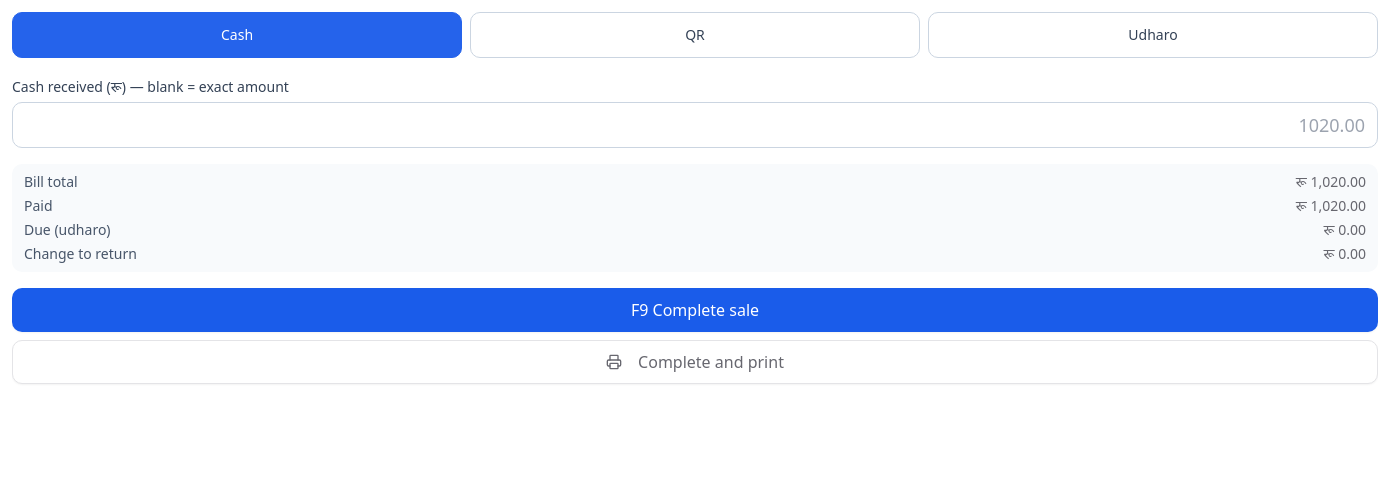
PaymentPanel › asks who owes the rest when the payment is short
Type "500" into the field labelled "Cash received (रू) — blank = exact amount" at (695, 125), box [12,102,1378,148]
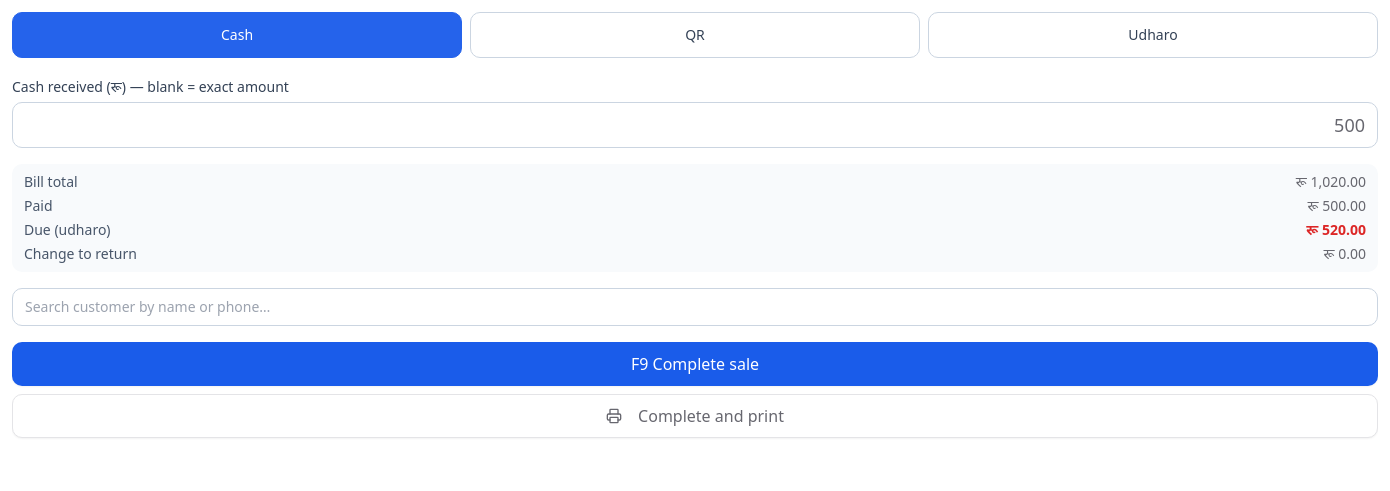
Result: the field named "search customers" is shown at [12,288,1378,326]
Click the button "F9 Complete sale" at (695, 364), box [12,342,1378,386]
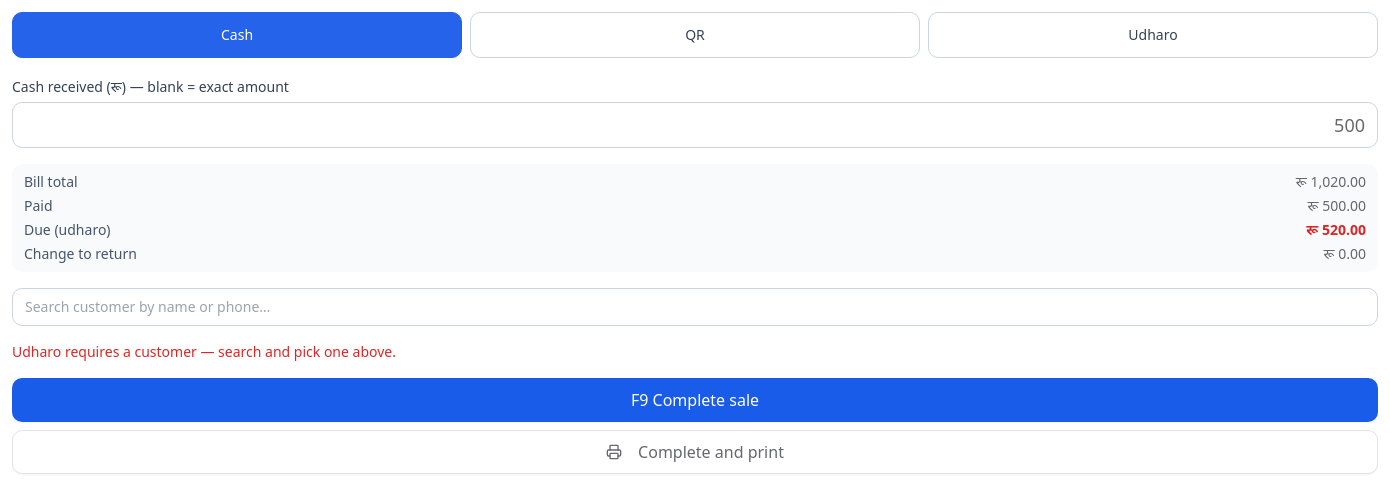
Result: the message shows "requires a customer" at [12,342,396,361]
